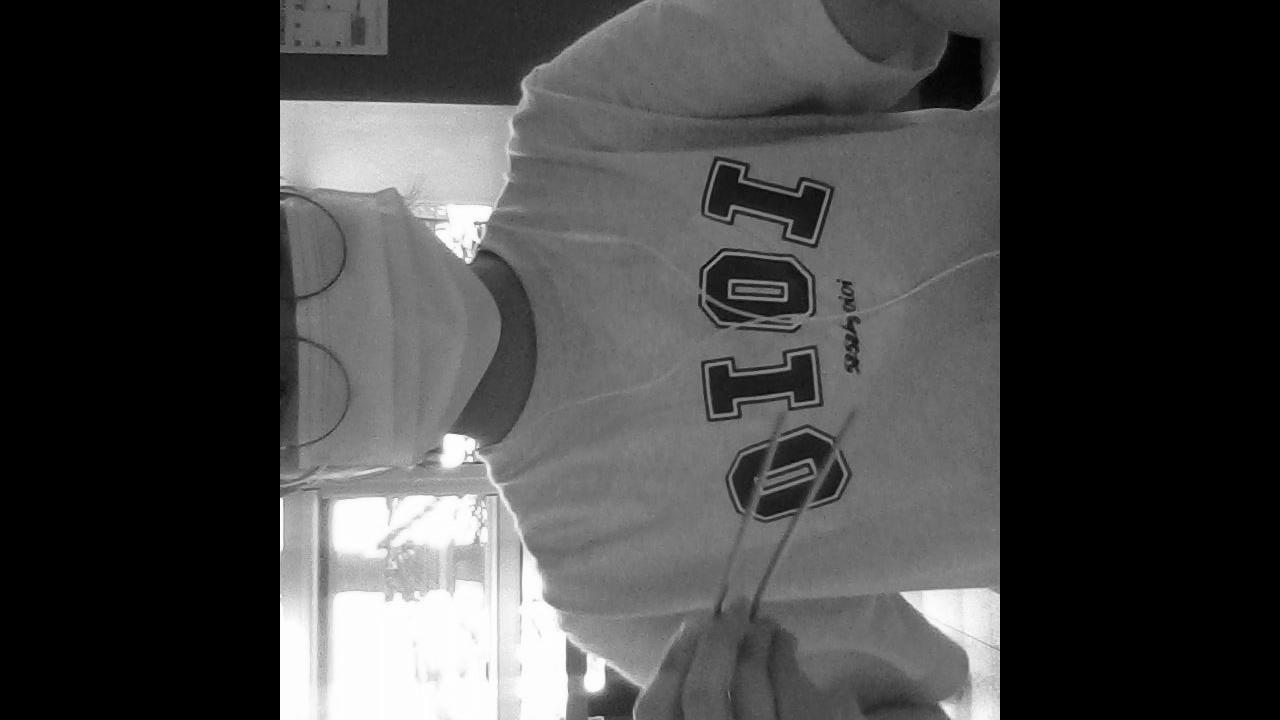chopstick: (648, 407, 857, 720), (647, 405, 791, 720)
hand: (633, 597, 849, 720)
